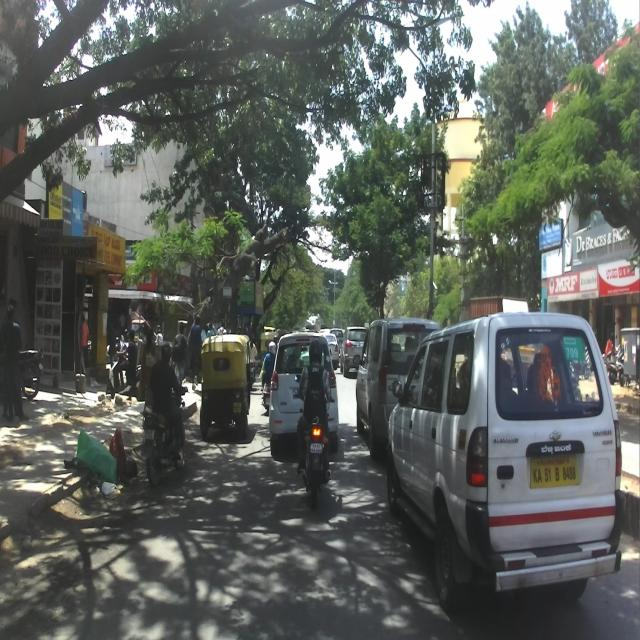Car_Chevrolet: (386, 310, 626, 612)
Car_Mahindra: (353, 317, 441, 459)
Car_Maruti-Suzuki: (266, 331, 338, 456)
autorickshaw: (199, 334, 253, 437)
motorcycle: (0, 335, 43, 398)
motorcycle_Suzuki: (141, 386, 188, 488)
motorcycle_bajaj: (294, 373, 335, 503)
